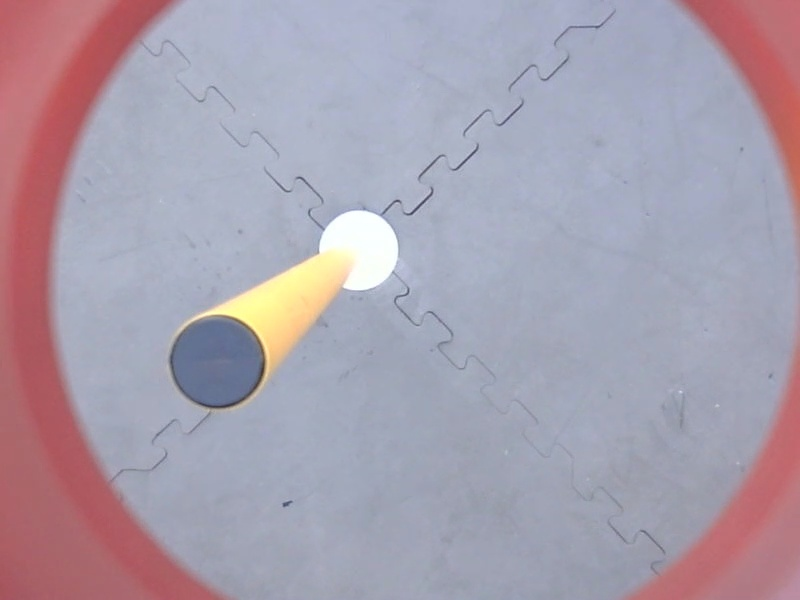tip: (161, 309, 273, 417)
